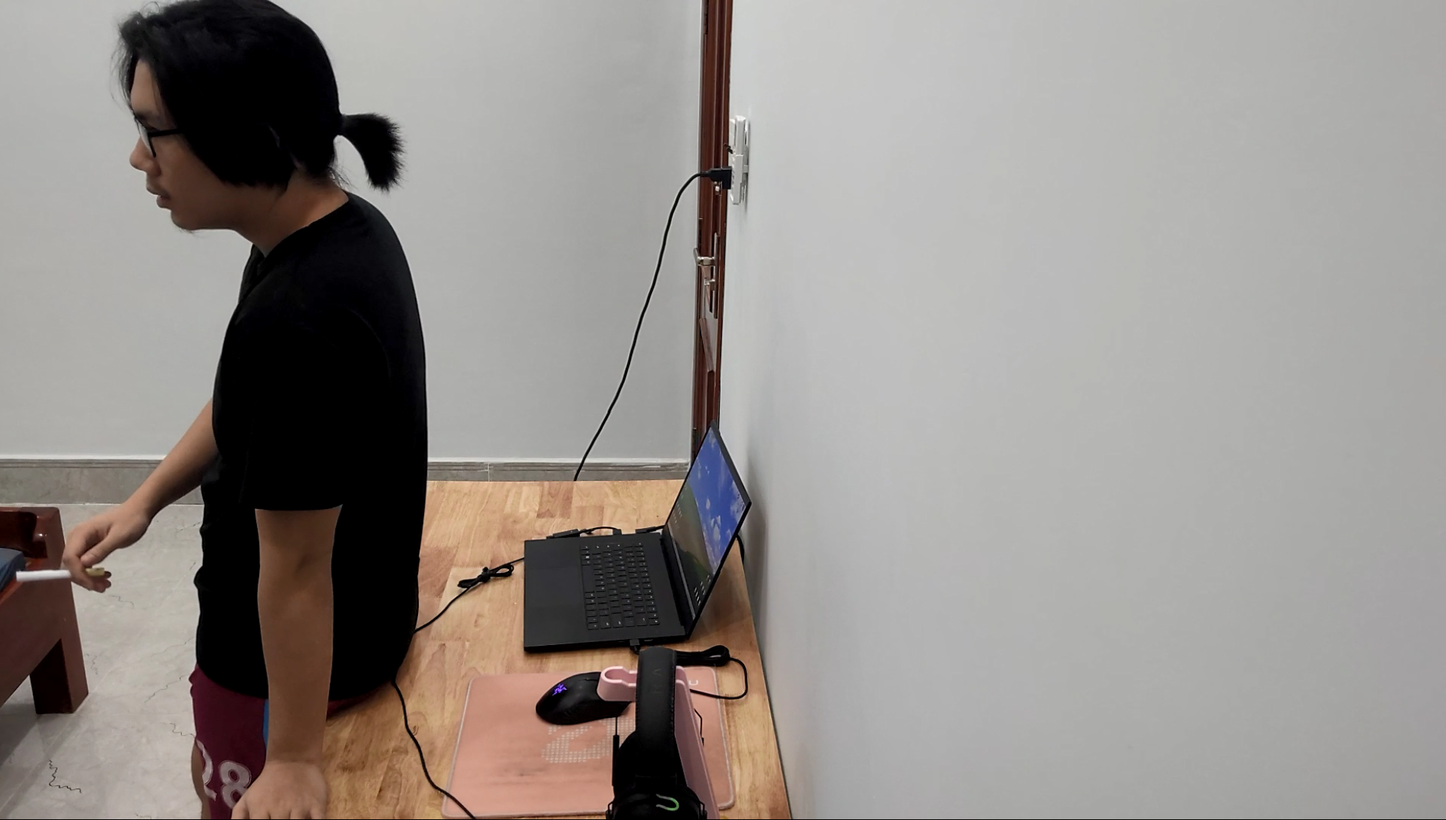cigarette: (17, 555, 106, 592)
person: (56, 0, 442, 820)
